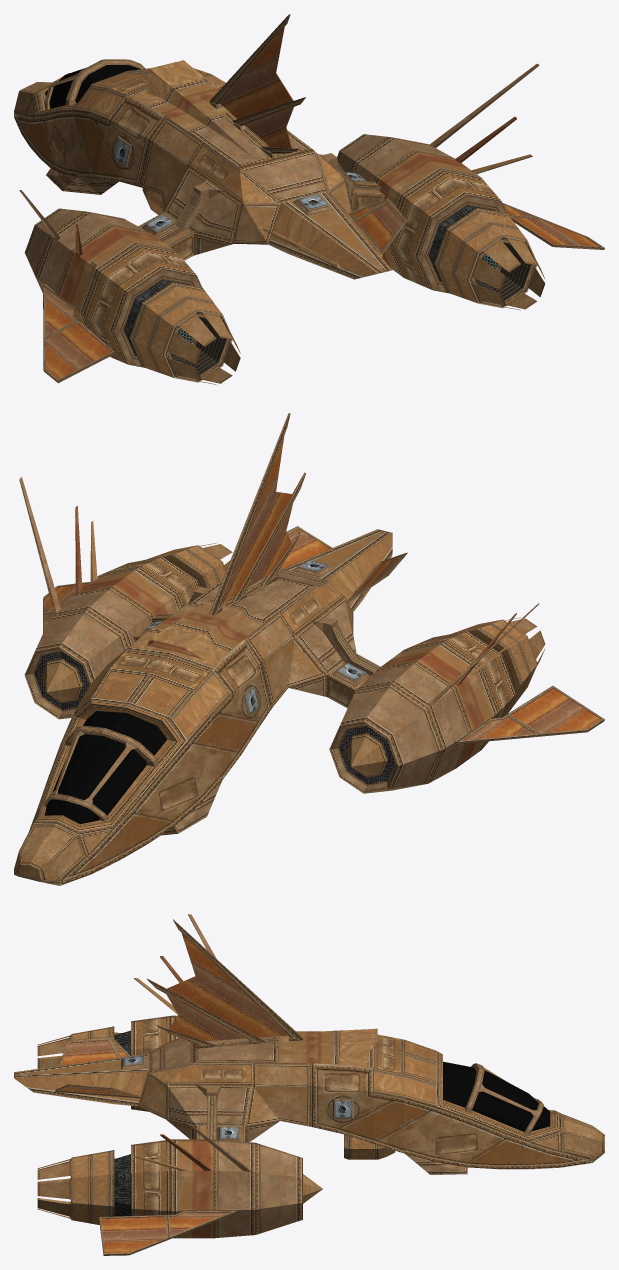
The model's file is fishFin.obj.
3 renders of one model, top to bottom at view 1: azimuth 30°, elevation 25°; view 2: azimuth 150°, elevation 25°; view 3: azimuth 270°, elevation 25°, orthographic. The views are drawn at different scales.
Parts seen in each view (by area): view 1: CHS-23_Shilone_II.001_CHS-23_Shilone_II.001_Hull1.002, CHS-23_Shilone_II.001_CHS-23_Shilone_II.001_Wings.001, CHS-23_Shilone_II.001_CHS-23_Shilone_II.001_Hull2.002, CHS-23_Shilone_II.001_CHS-23_Shilone_II.001_Engine.001, CHS-23_Shilone_II.001_CHS-23_Shilone_II.001_Default_OBJ.004, CHS-23_Shilone_II.001_CHS-23_Shilone_II.001_Weaponplate.001; view 2: CHS-23_Shilone_II.001_CHS-23_Shilone_II.001_Hull1.002, CHS-23_Shilone_II.001_CHS-23_Shilone_II.001_Wings.001, CHS-23_Shilone_II.001_CHS-23_Shilone_II.001_Default_OBJ.004, CHS-23_Shilone_II.001_CHS-23_Shilone_II.001_Grill2.001, CHS-23_Shilone_II.001_CHS-23_Shilone_II.001_Weaponplate.001; view 3: CHS-23_Shilone_II.001_CHS-23_Shilone_II.001_Hull1.002, CHS-23_Shilone_II.001_CHS-23_Shilone_II.001_Wings.001, CHS-23_Shilone_II.001_CHS-23_Shilone_II.001_Default_OBJ.004, CHS-23_Shilone_II.001_CHS-23_Shilone_II.001_Engine.001, CHS-23_Shilone_II.001_CHS-23_Shilone_II.001_Weaponplate.001.
Boxes of the visible parts, x1=… form: CHS-23_Shilone_II.001_CHS-23_Shilone_II.001_Hull1.002: x1=14, y1=14, x2=604, y2=384; CHS-23_Shilone_II.001_CHS-23_Shilone_II.001_Wings.001: x1=45, y1=26, x2=599, y2=379; CHS-23_Shilone_II.001_CHS-23_Shilone_II.001_Hull2.002: x1=170, y1=243, x2=530, y2=374; CHS-23_Shilone_II.001_CHS-23_Shilone_II.001_Engine.001: x1=124, y1=205, x2=509, y2=355; CHS-23_Shilone_II.001_CHS-23_Shilone_II.001_Default_OBJ.004: x1=45, y1=65, x2=141, y2=108; CHS-23_Shilone_II.001_CHS-23_Shilone_II.001_Weaponplate.001: x1=114, y1=138, x2=365, y2=231; CHS-23_Shilone_II.001_CHS-23_Shilone_II.001_Hull1.002: x1=14, y1=413, x2=604, y2=885; CHS-23_Shilone_II.001_CHS-23_Shilone_II.001_Wings.001: x1=45, y1=436, x2=600, y2=739; CHS-23_Shilone_II.001_CHS-23_Shilone_II.001_Default_OBJ.004: x1=44, y1=711, x2=167, y2=824; CHS-23_Shilone_II.001_CHS-23_Shilone_II.001_Grill2.001: x1=34, y1=651, x2=394, y2=784; CHS-23_Shilone_II.001_CHS-23_Shilone_II.001_Weaponplate.001: x1=145, y1=560, x2=365, y2=714; CHS-23_Shilone_II.001_CHS-23_Shilone_II.001_Hull1.002: x1=14, y1=914, x2=604, y2=1255; CHS-23_Shilone_II.001_CHS-23_Shilone_II.001_Wings.001: x1=60, y1=933, x2=287, y2=1252; CHS-23_Shilone_II.001_CHS-23_Shilone_II.001_Default_OBJ.004: x1=443, y1=1061, x2=550, y2=1131; CHS-23_Shilone_II.001_CHS-23_Shilone_II.001_Engine.001: x1=114, y1=1030, x2=130, y2=1216; CHS-23_Shilone_II.001_CHS-23_Shilone_II.001_Weaponplate.001: x1=123, y1=1055, x2=352, y2=1138.
Size of the model in its own units: 2.17 by 1.16 by 2.44.
Materials: 9 (8 with a texture image).
